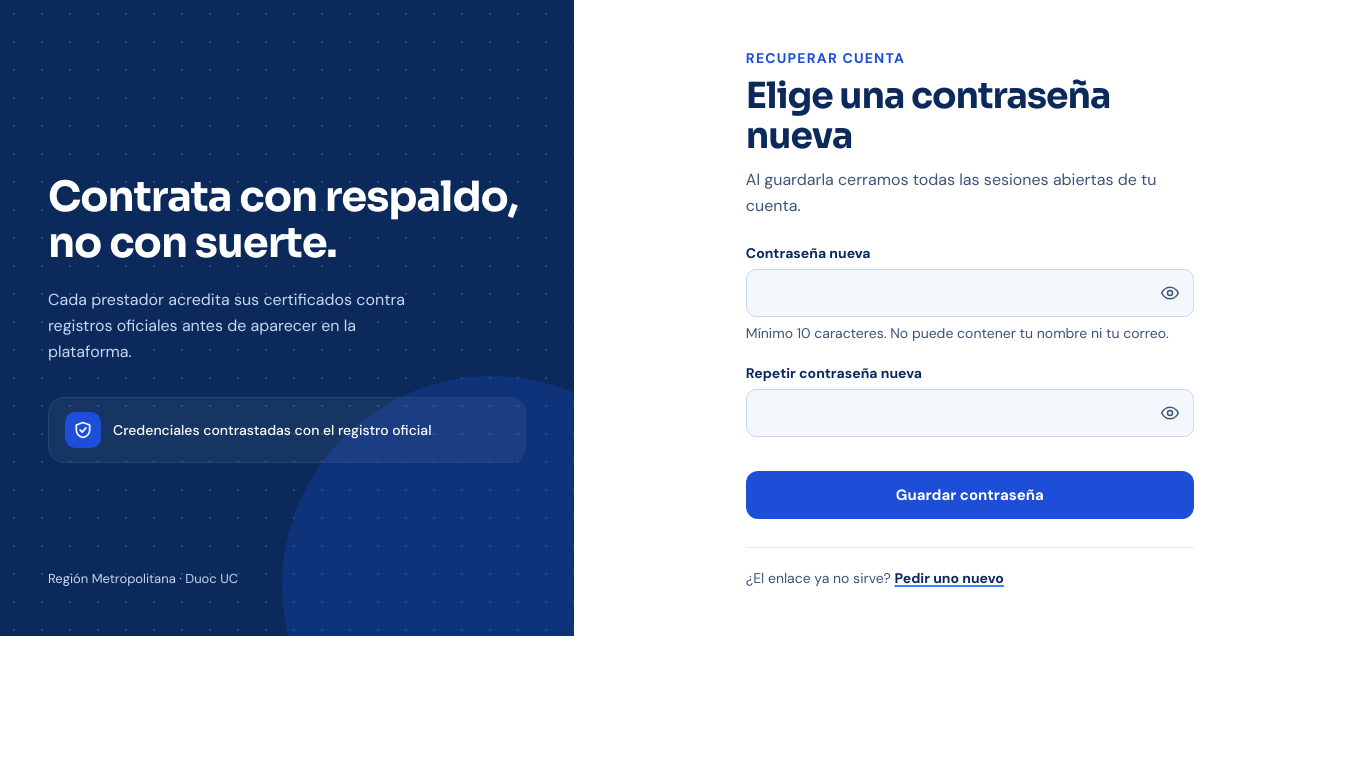
Test: Restablecer contraseña › guarda la contraseña nueva y avisa que se cerraron las sesiones
Type "caballo-bateria-grapa" into the password field labelled "Contraseña nueva" at (970, 293), box [746,269,1194,317]
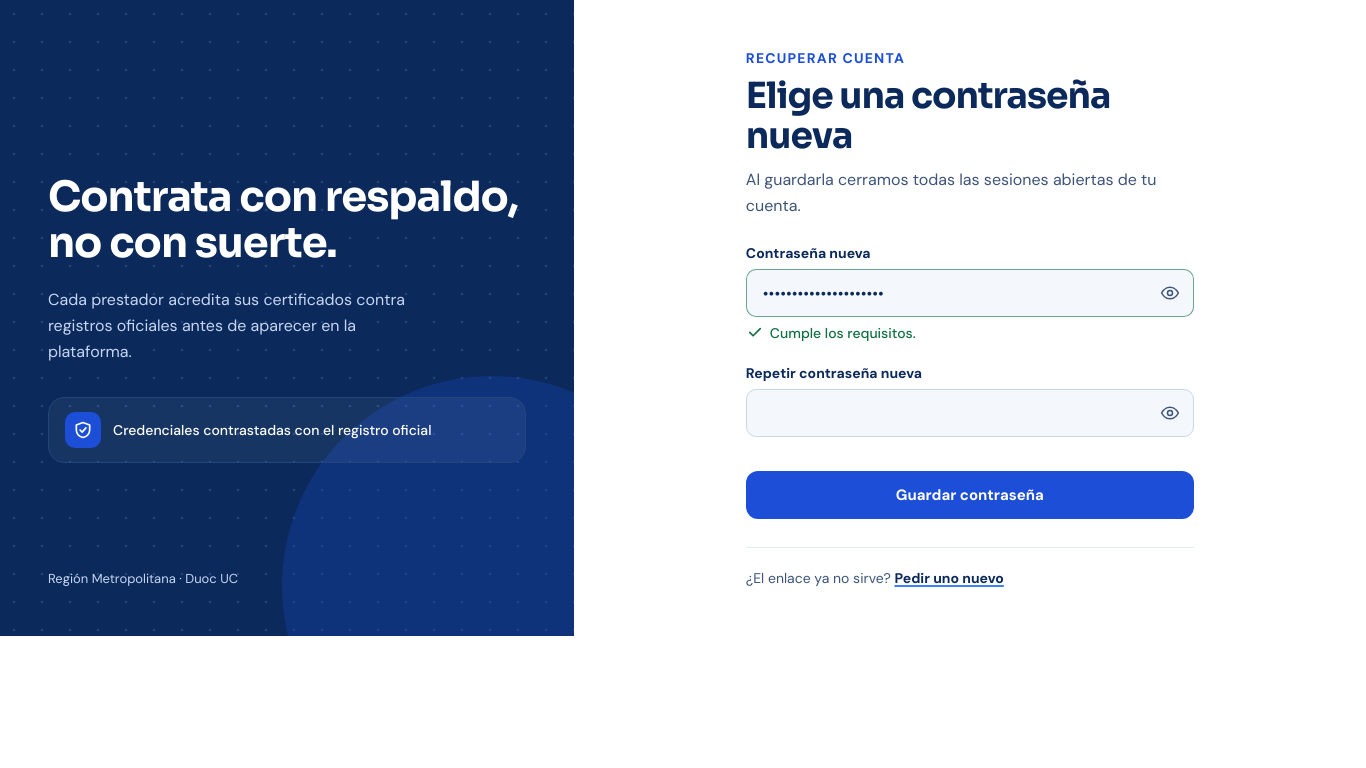
Type "caballo-bateria-grapa" into the password field labelled "Repetir contraseña nueva" at (970, 413), box [746,389,1194,437]
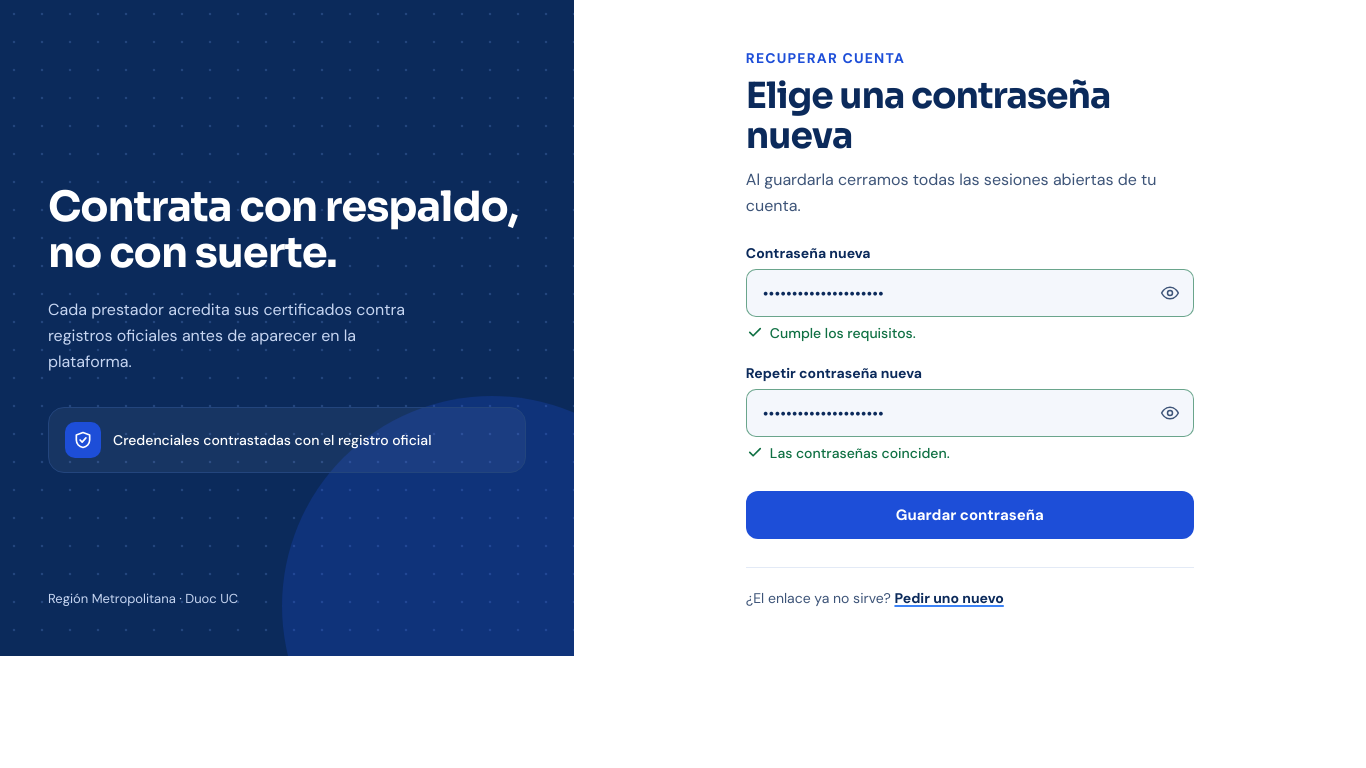
Click the button "Guardar contraseña" at (970, 515), box [746,491,1194,539]
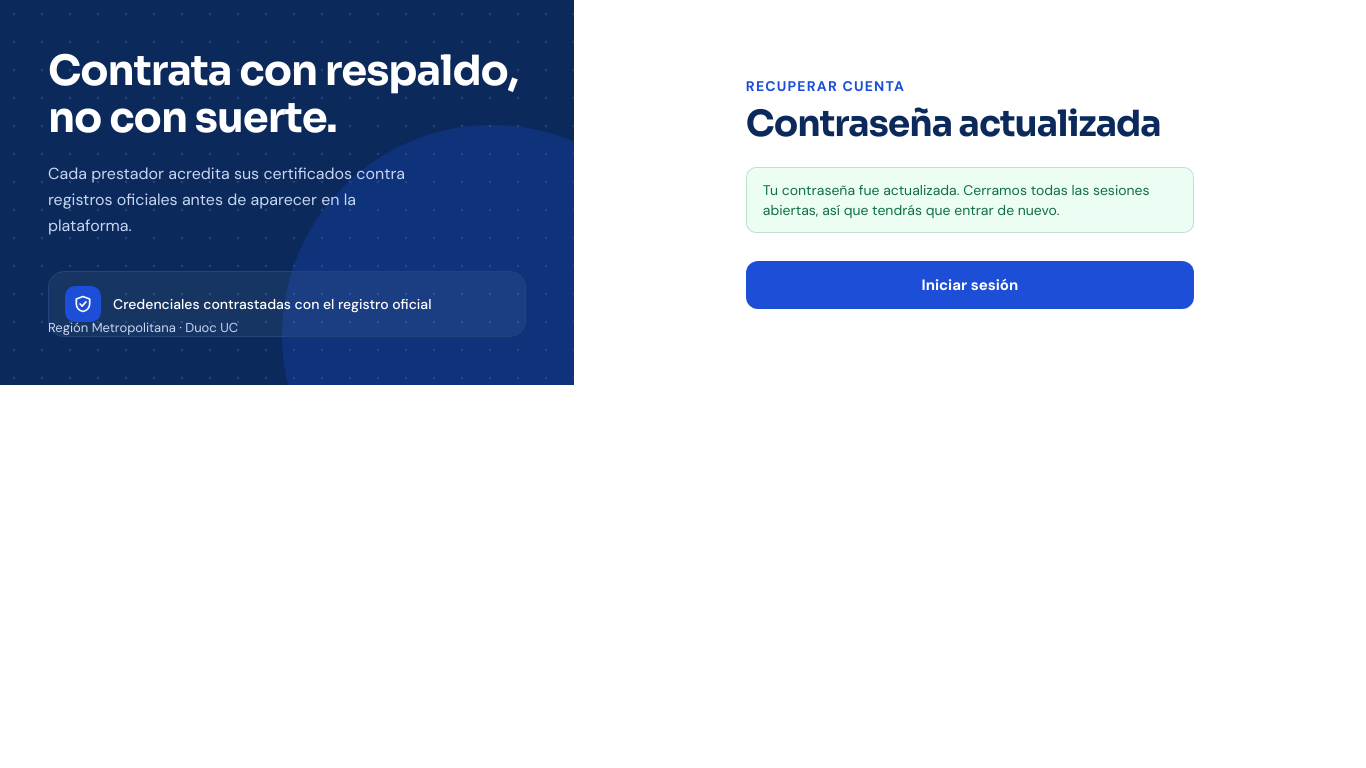
Expected: the text "tendrás que entrar de nuevo" is shown, [763,181,1150,219]
